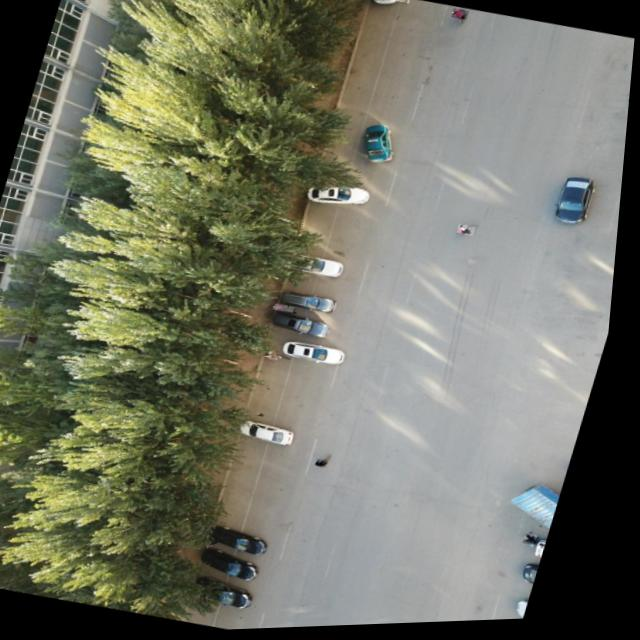Person: (451, 10, 470, 23), (461, 226, 480, 239), (278, 304, 301, 314), (532, 536, 549, 549), (323, 460, 336, 469), (393, 0, 410, 6)
